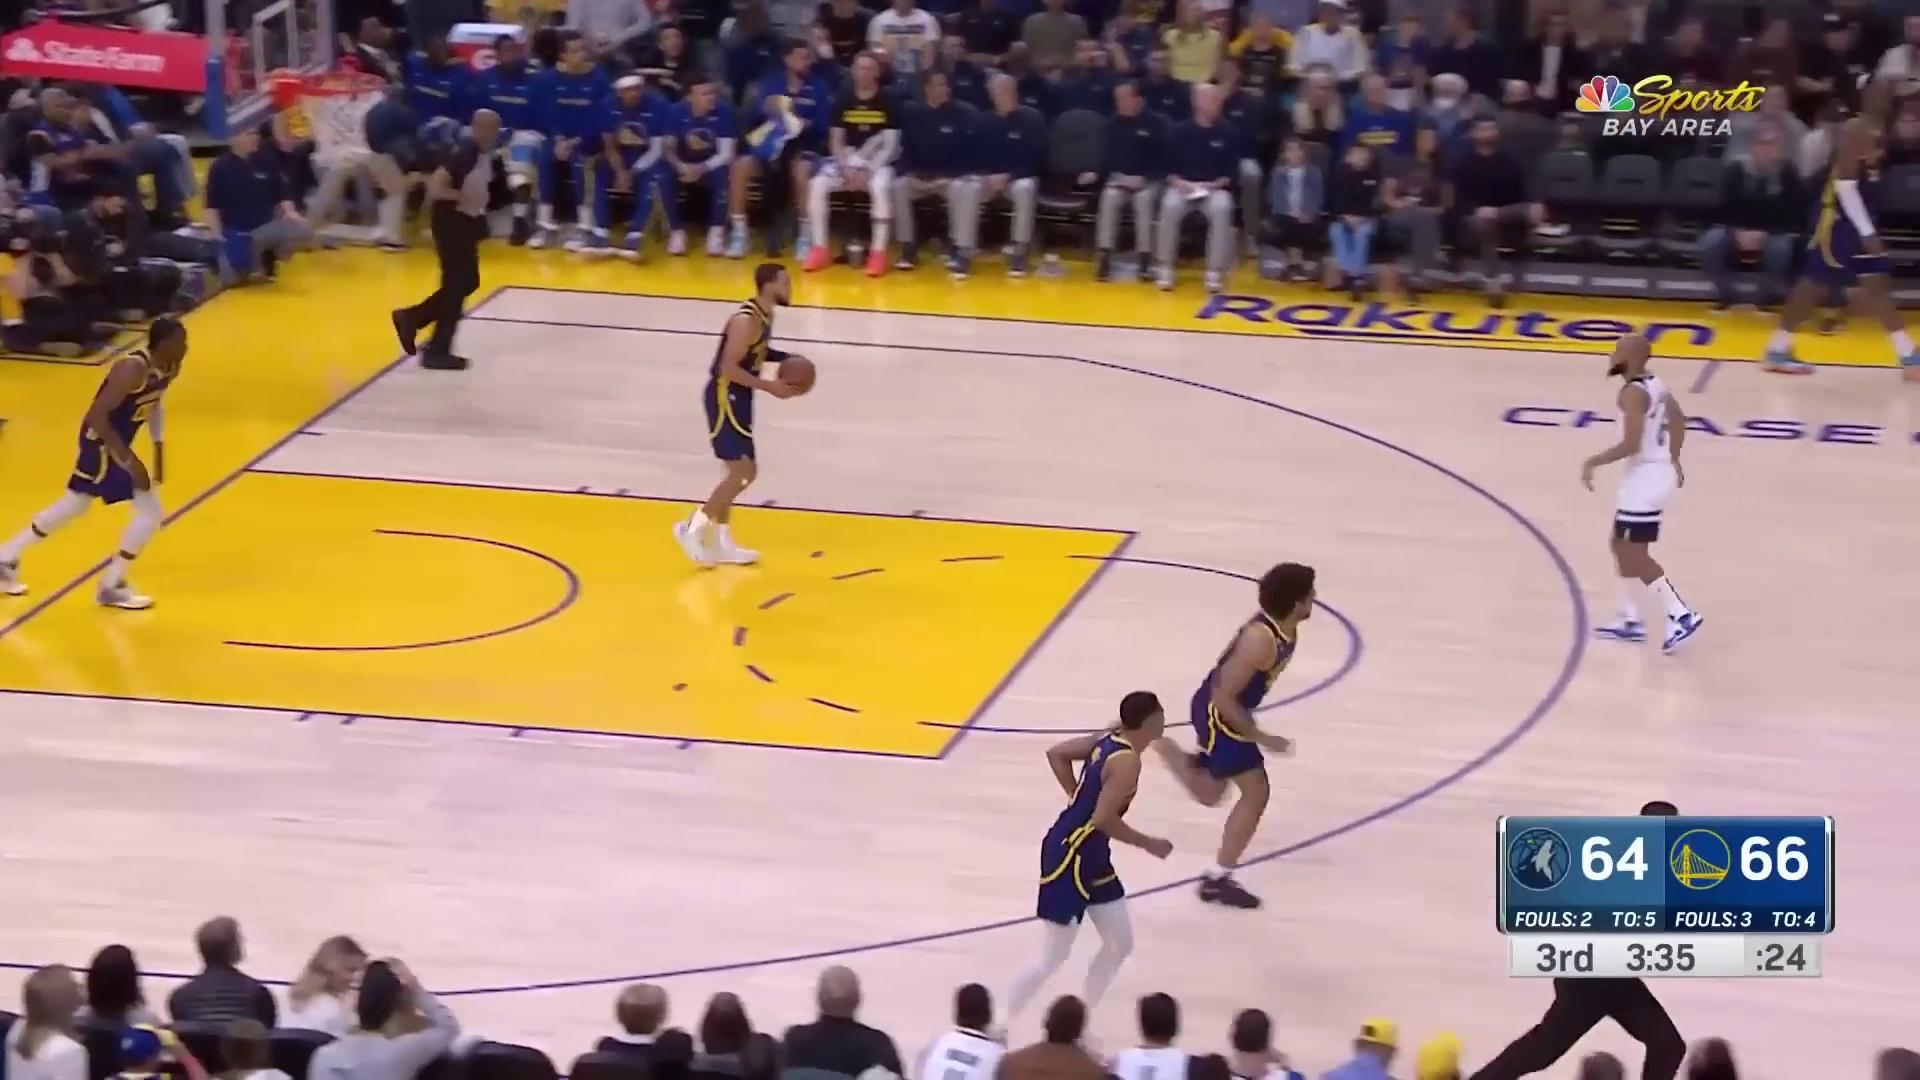Ball: (768, 344, 828, 403)
Player: (1129, 554, 1326, 929), (989, 693, 1176, 1049), (1, 313, 193, 621), (668, 264, 824, 566), (1569, 336, 1708, 648)
Rim: (198, 1, 393, 176)
